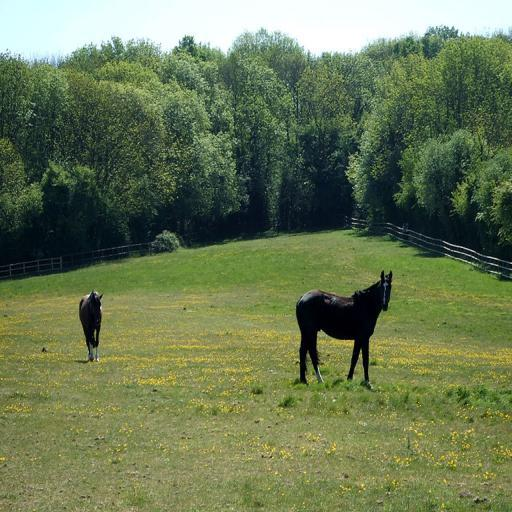Horse: (294, 266, 393, 388), (80, 290, 103, 362)
